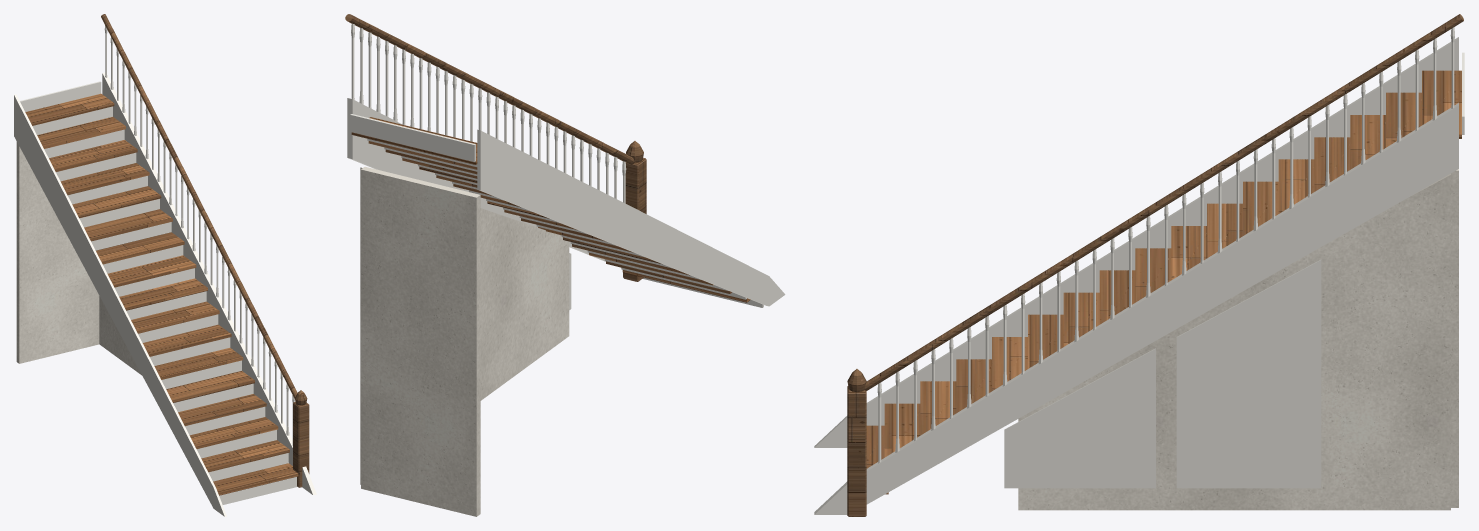
File: stair.glb
3 renders of one model, left to right at view 1: azimuth 30°, elevation 25°; view 2: azimuth 150°, elevation 25°; view 3: azimuth 270°, elevation 25°, orthographic. The views are drawn at different scales.
Parts seen in each view (by area): view 1: stair_trim, stair_floor, stair_plaster, stair_deck; view 2: stair_plaster, stair_trim, stair_floor, stair_deck; view 3: stair_trim, stair_plaster, stair_floor, stair_deck.
Part boxes in pixels (left/top/right/bottom): stair_trim: left=14, top=25, right=316, bottom=516; stair_floor: left=25, top=93, right=298, bottom=495; stair_plaster: left=16, top=141, right=141, bottom=375; stair_deck: left=101, top=14, right=309, bottom=487; stair_plaster: left=360, top=166, right=569, bottom=516; stair_trim: left=347, top=23, right=785, bottom=309; stair_floor: left=351, top=117, right=750, bottom=302; stair_deck: left=345, top=14, right=646, bottom=281; stair_trim: left=814, top=27, right=1464, bottom=514; stair_plaster: left=1018, top=169, right=1458, bottom=510; stair_floor: left=866, top=70, right=1461, bottom=494; stair_deck: left=847, top=14, right=1463, bottom=516.
Bounding box in the file's own units: 1.23 × 4 × 4.72.
4 materials, 3 textured.
